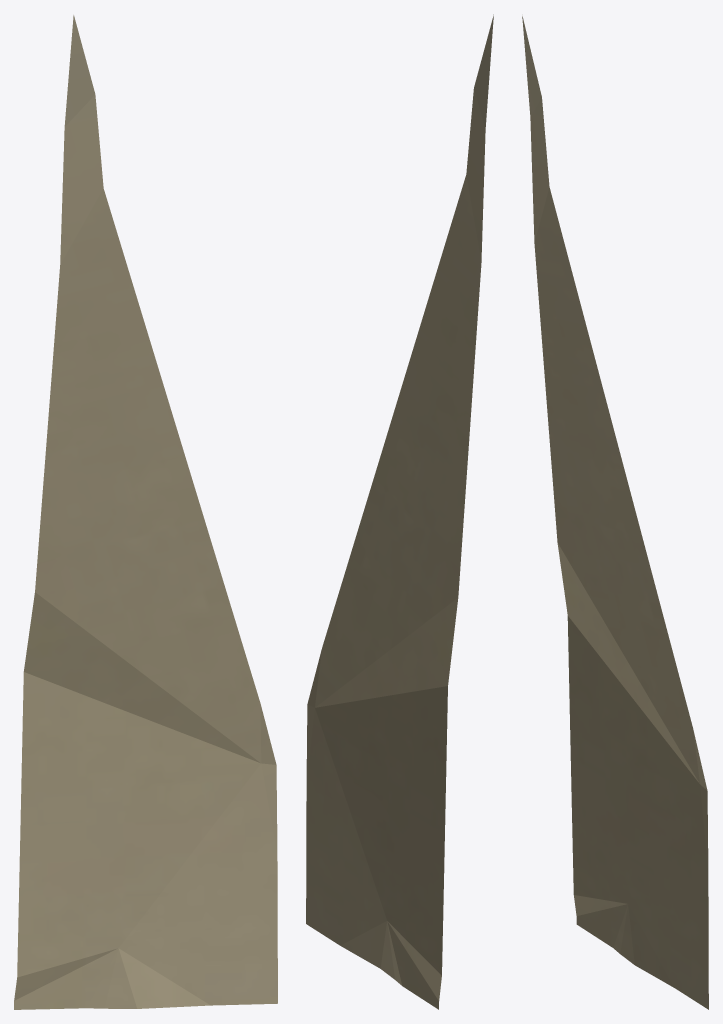
The picture shows the model from 3 angles, left to right: view 1: azimuth 30°, elevation 25°; view 2: azimuth 150°, elevation 25°; view 3: azimuth 330°, elevation 25°; orthographic projection. The views are drawn at different scales.
Bounding box in the file's own units: 0.1517 × 0.7376 × 0.0767.
1 material, 1 textured.
